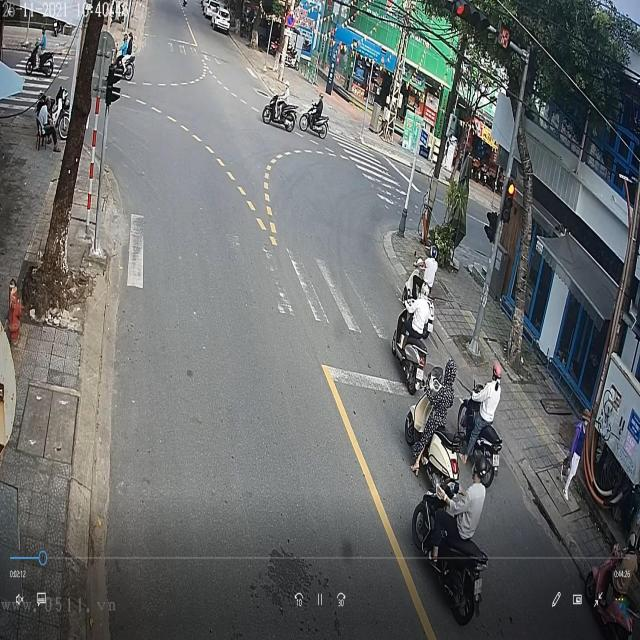motorcycle: (414, 476, 491, 627), (459, 378, 502, 487), (390, 292, 425, 395), (261, 96, 298, 132), (296, 100, 329, 138)
